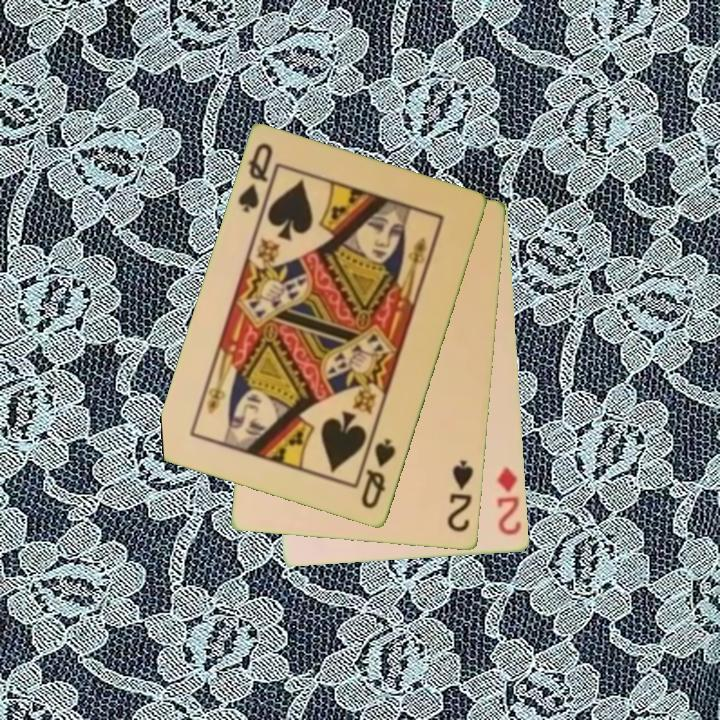2d: (494, 464, 525, 539)
2s: (444, 456, 477, 536)
Qs: (357, 435, 399, 513), (235, 140, 276, 216)
